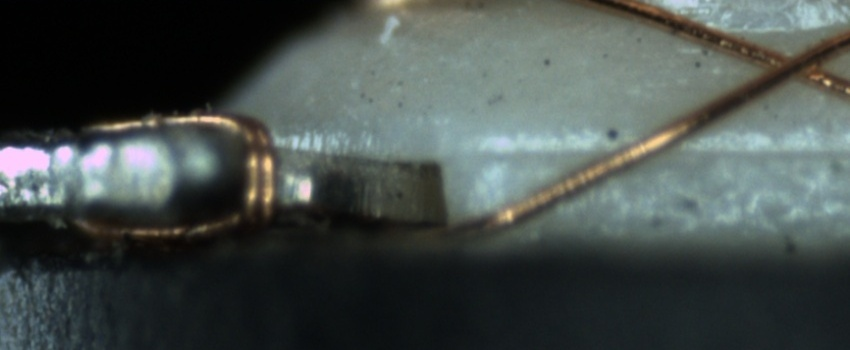CL: (733, 34, 850, 91)
DL: (466, 118, 849, 183)
TE: (61, 102, 288, 244)
